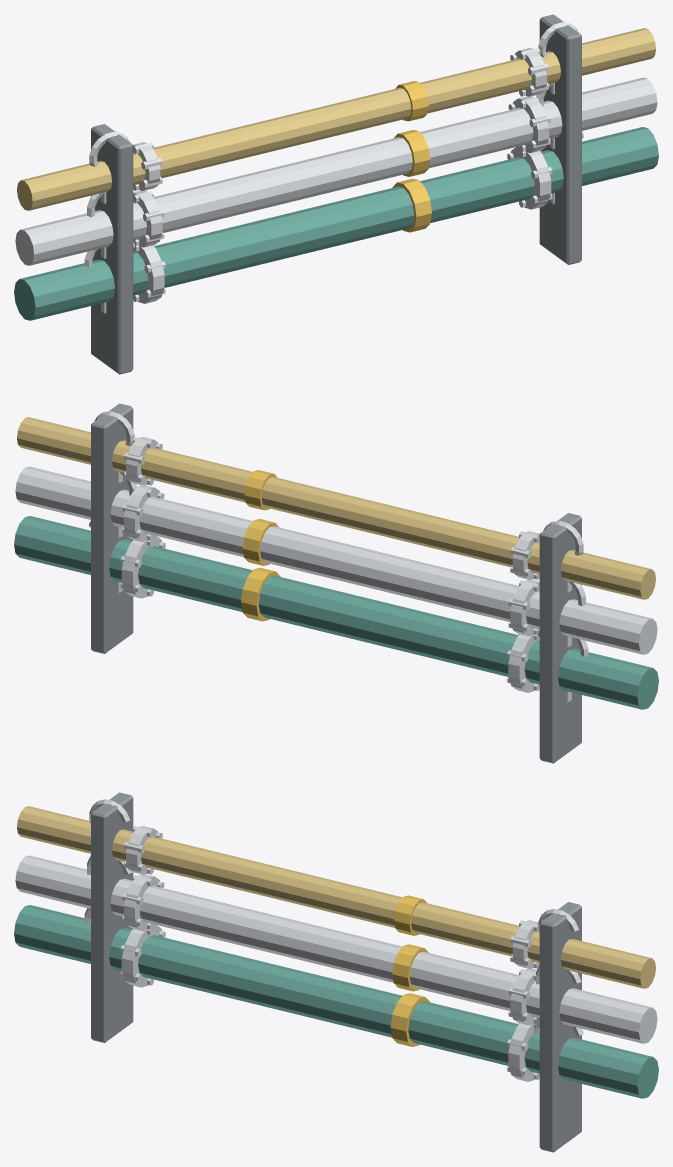
Rendered from submarine-interior-and-control-room-service-pipe-run-a0d79913__36473.glb.
3 renders of one model, top to bottom at view 1: azimuth 30°, elevation 25°; view 2: azimuth 150°, elevation 25°; view 3: azimuth 330°, elevation 25°, orthographic.
Visible parts, largest first — view 1: service-pipe-run; view 2: service-pipe-run; view 3: service-pipe-run.
Part boxes in pixels (x1,y1,x2,y2): service-pipe-run: (14,14,658,374); service-pipe-run: (14,403,658,763); service-pipe-run: (14,792,658,1152).
Bounding box in the file's own units: 2 × 0.7094 × 0.1755.
